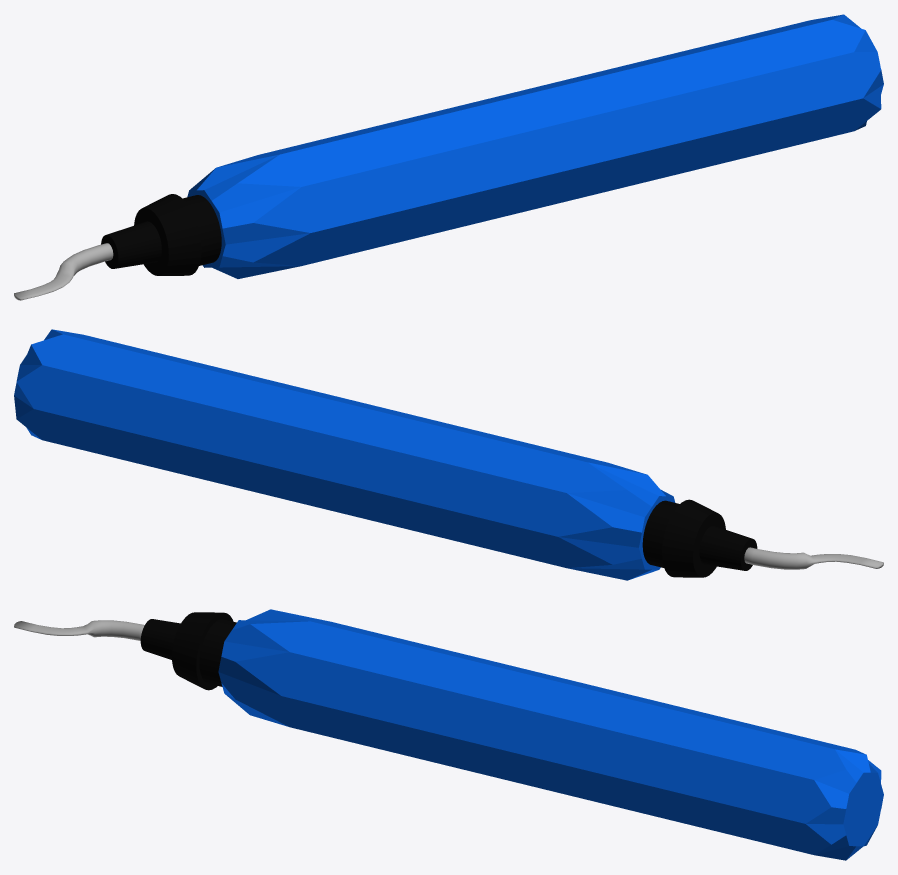
Rendered from Tool-DeBurring.fbx.
3 renders of one model, top to bottom at view 1: azimuth 30°, elevation 25°; view 2: azimuth 150°, elevation 25°; view 3: azimuth 330°, elevation 25°, orthographic. The views are drawn at different scales.
Parts seen in each view (by area): view 1: Cube.002; view 2: Cube.002; view 3: Cube.002.
Part boxes in pixels (x1,y1,x2,y2): Cube.002: [14, 14, 883, 300]; Cube.002: [14, 329, 883, 580]; Cube.002: [14, 609, 883, 860].
Bounding box in the file's own units: 11.49 × 1.41 × 1.41.
